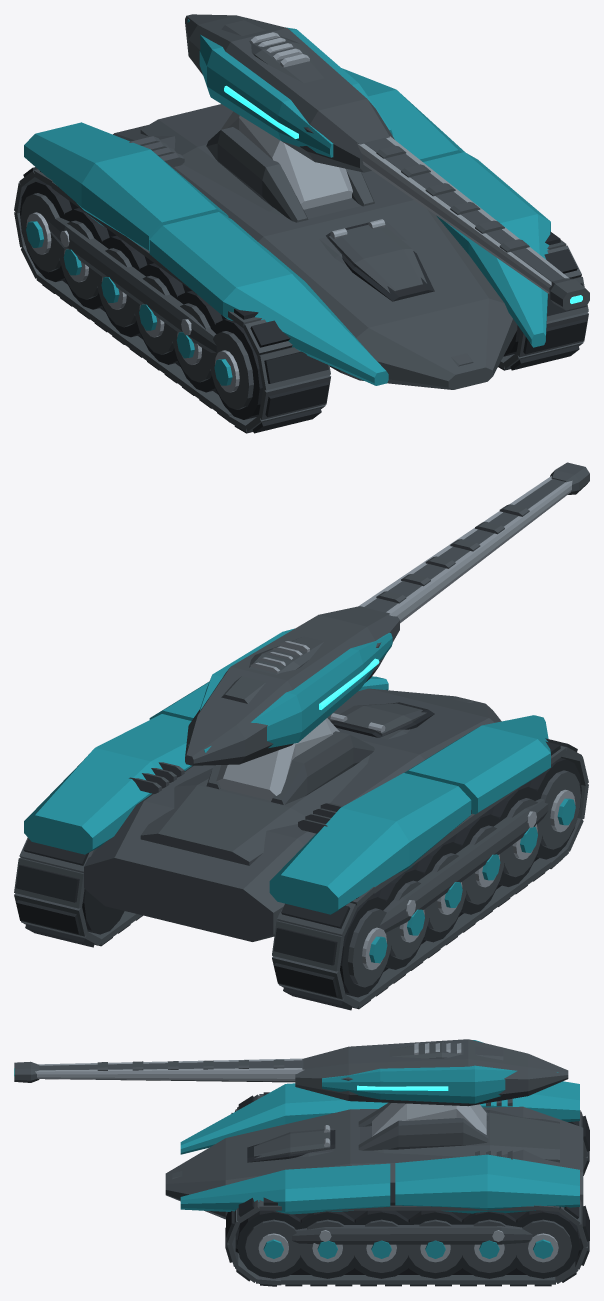
File: normal.glb
3 renders of one model, top to bottom at view 1: azimuth 30°, elevation 25°; view 2: azimuth 150°, elevation 25°; view 3: azimuth 270°, elevation 25°, orthographic. The views are drawn at different scales.
Parts seen in each view (by area): view 1: chassis, gaussAssembly, trackL, trackR, roadWheelL0, roadWheelL5, roadWheelL1, roadWheelL2, roadWheelL3, roadWheelL4; view 2: chassis, gaussAssembly, trackL, trackR, roadWheelL5, roadWheelL0, roadWheelL1, roadWheelL4, roadWheelL2, roadWheelL3, roadWheelR5; view 3: chassis, gaussAssembly, trackR, roadWheelR0, roadWheelR5, roadWheelR1, roadWheelR2, roadWheelR3, roadWheelR4, trackL.
Boxes of the visible parts, x1,y1,x2,y2 form: chassis: (24, 68, 550, 389); gaussAssembly: (185, 14, 589, 310); trackL: (14, 167, 330, 433); trackR: (498, 232, 588, 370); roadWheelL0: (209, 319, 262, 419); roadWheelL5: (20, 180, 71, 281); roadWheelL1: (171, 291, 222, 392); roadWheelL2: (133, 263, 184, 364); roadWheelL3: (96, 235, 147, 337); roadWheelL4: (58, 208, 109, 309); chassis: (24, 676, 550, 941); gaussAssembly: (185, 462, 589, 765); trackL: (272, 738, 588, 1010); trackR: (14, 837, 142, 947); roadWheelL5: (340, 895, 391, 997); roadWheelL0: (530, 758, 581, 859); roadWheelL1: (492, 785, 542, 886); roadWheelL4: (379, 868, 429, 969); roadWheelL2: (454, 813, 504, 914); roadWheelL3: (417, 840, 467, 942); roadWheelR5: (82, 889, 124, 934); chassis: (165, 1081, 583, 1244); gaussAssembly: (14, 1039, 568, 1106); trackR: (225, 1182, 589, 1286); roadWheelR0: (237, 1210, 304, 1278); roadWheelR5: (513, 1210, 579, 1278); roadWheelR1: (297, 1211, 357, 1278); roadWheelR2: (351, 1210, 412, 1278); roadWheelR3: (405, 1210, 465, 1278); roadWheelR4: (458, 1211, 519, 1278); trackL: (231, 1092, 589, 1175).
Bounding box in the file's own units: 1.73 × 1.23 × 3.46.
